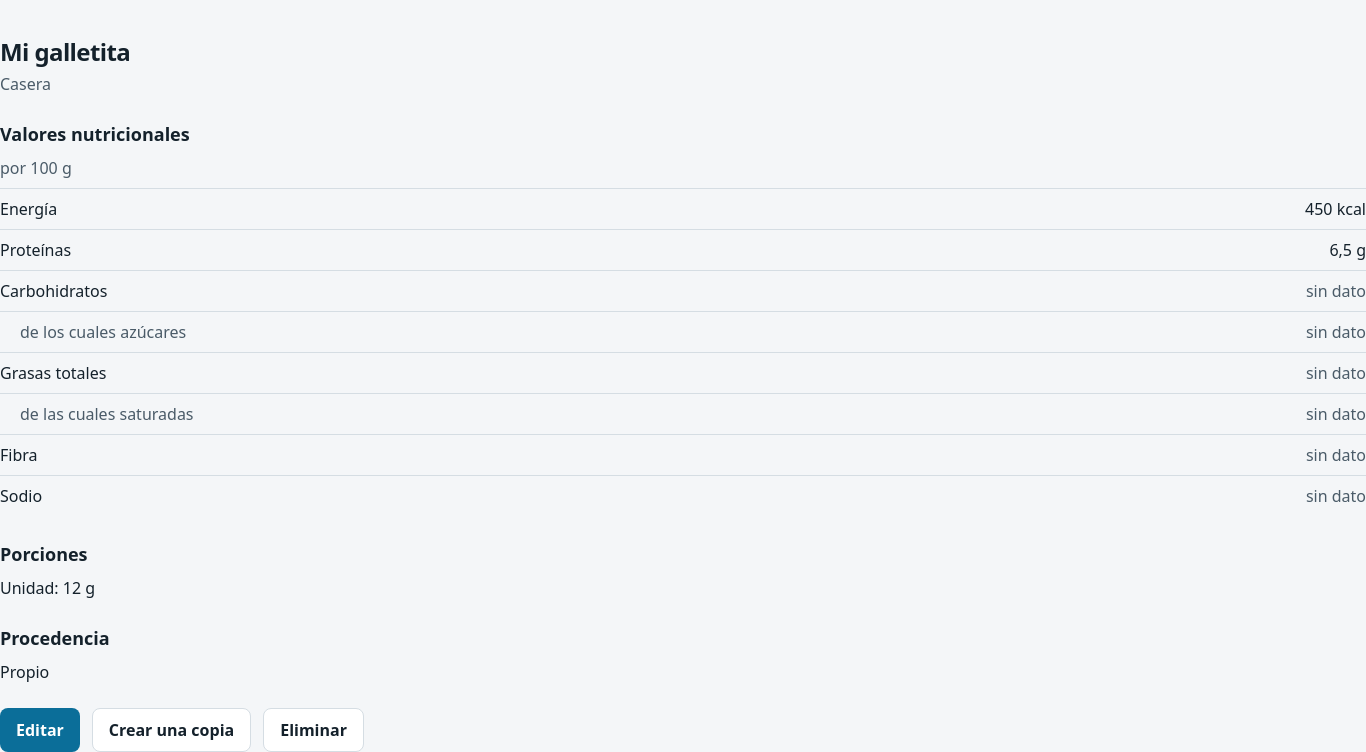
Test case: Eliminar (FR-021) › Escape cancela, devuelve el foco y no elimina
(page scrolled)
Click the button "Eliminar" at (314, 730), box [263,708,364,751]
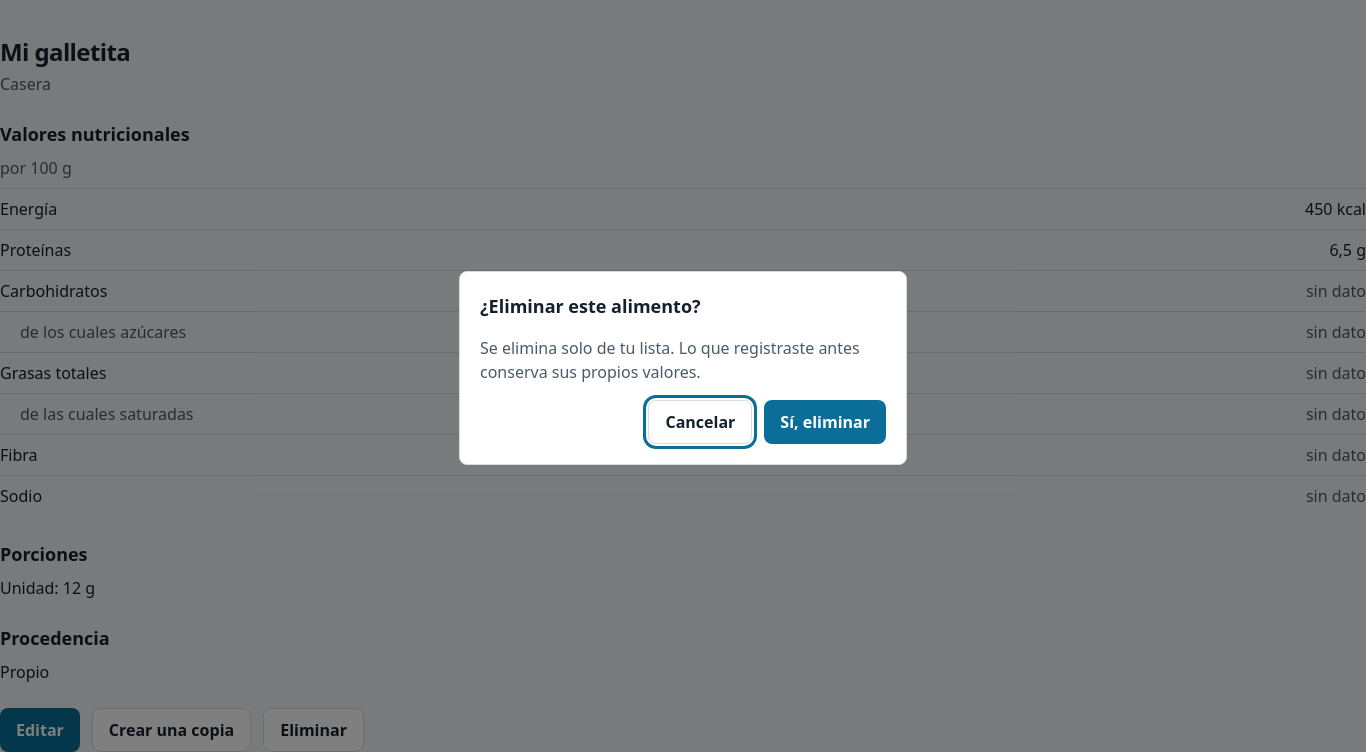
Now the dialog is shown, box [459,271,907,465]
Press Escape
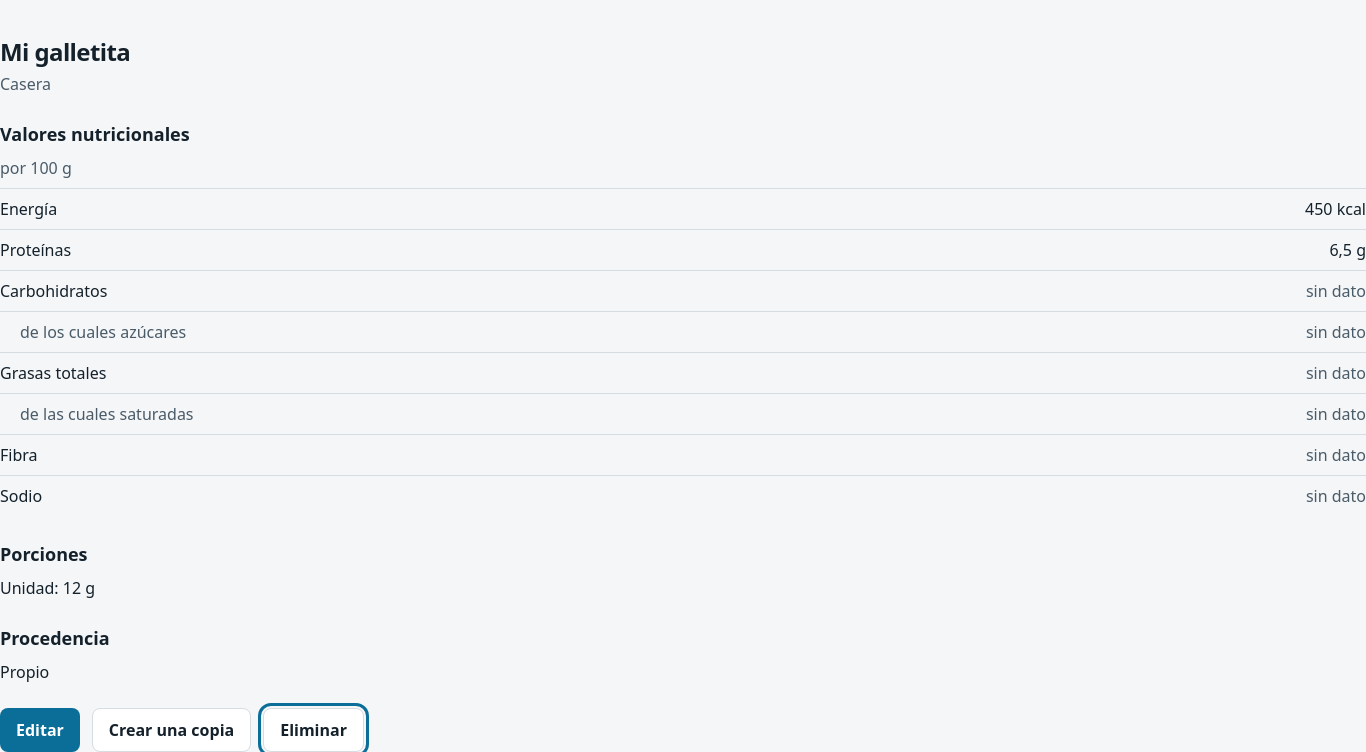
Now the dialog is gone
